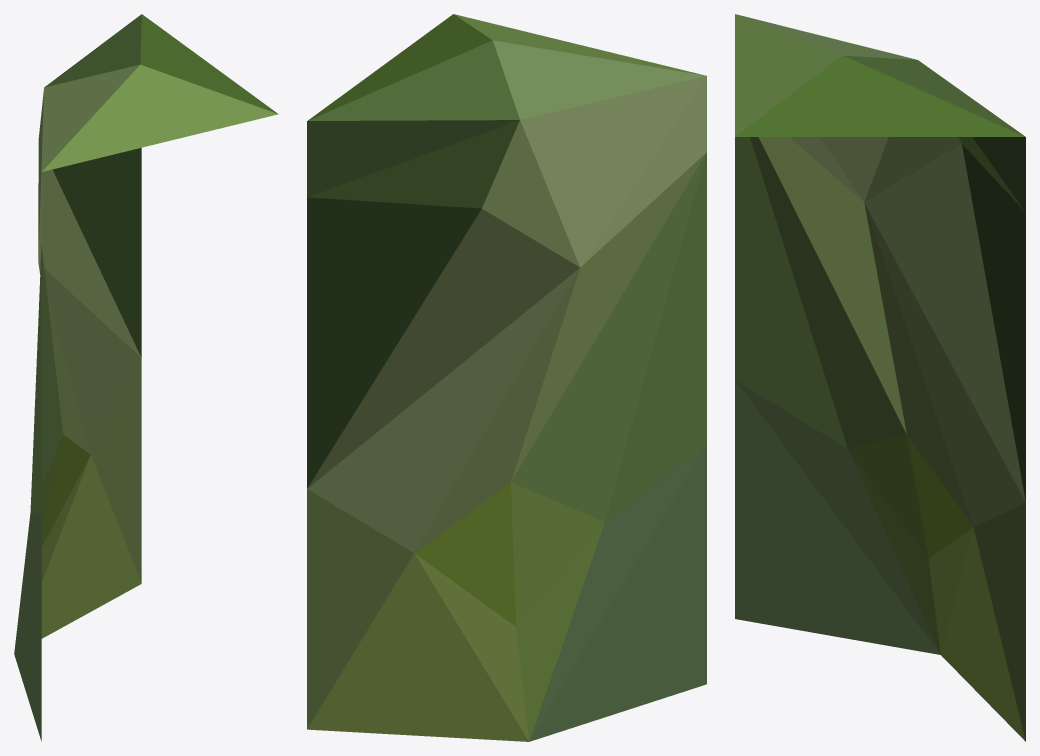
File: Wall_Foliage-Corner.fbx
The picture shows the model from 3 angles, left to right: view 1: azimuth 30°, elevation 25°; view 2: azimuth 150°, elevation 25°; view 3: azimuth 270°, elevation 25°; orthographic projection. The views are drawn at different scales.
Parts seen in each view (by area): view 1: Wall_Foliage-Corner; view 2: Wall_Foliage-Corner; view 3: Wall_Foliage-Corner.
Part boxes in pixels (x1=…): Wall_Foliage-Corner: x1=14, y1=14, x2=278, y2=741; Wall_Foliage-Corner: x1=307, y1=14, x2=706, y2=741; Wall_Foliage-Corner: x1=735, y1=14, x2=1025, y2=741.
Bounding box in the file's own units: 84.3 × 205 × 84.3.
